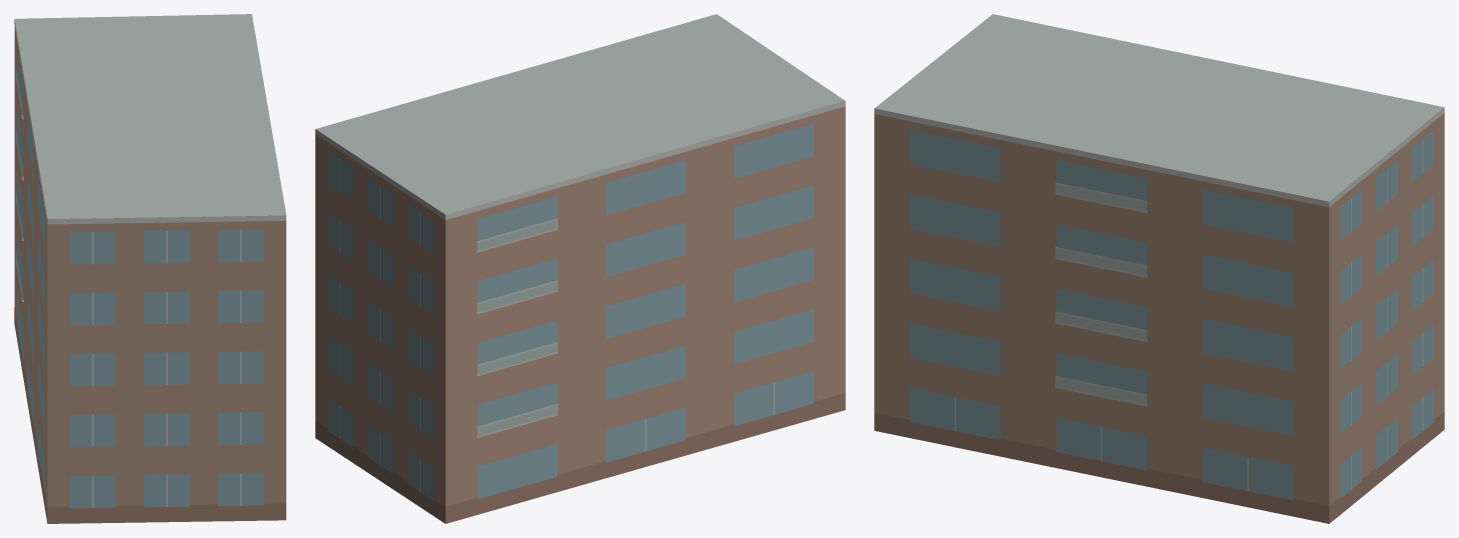
File: survey-upis-32585923.glb
3 views of the same model, side by side, from view 1: azimuth 30°, elevation 25°; view 2: azimuth 150°, elevation 25°; view 3: azimuth 270°, elevation 25° (orthographic). The views are drawn at different scales.
Visible parts, largest first — view 1: survey-upis-32585923.tmp; view 2: survey-upis-32585923.tmp; view 3: survey-upis-32585923.tmp.
Boxes of the visible parts, x1=… form: survey-upis-32585923.tmp: x1=14, y1=14, x2=286, y2=523; survey-upis-32585923.tmp: x1=315, y1=14, x2=845, y2=523; survey-upis-32585923.tmp: x1=874, y1=14, x2=1444, y2=523.
Bounding box in the file's own units: 17.36 × 13.9 × 22.3.
